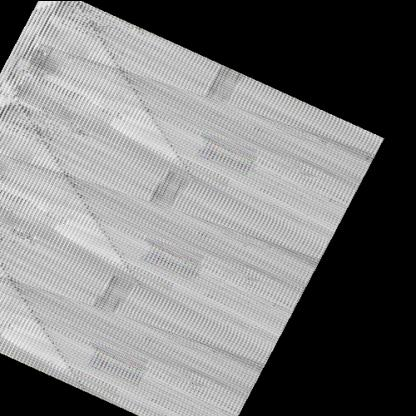Damage: (90, 149, 228, 319)
